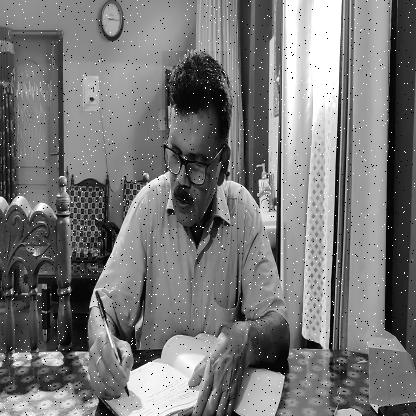Normal: (162, 51, 228, 228)
